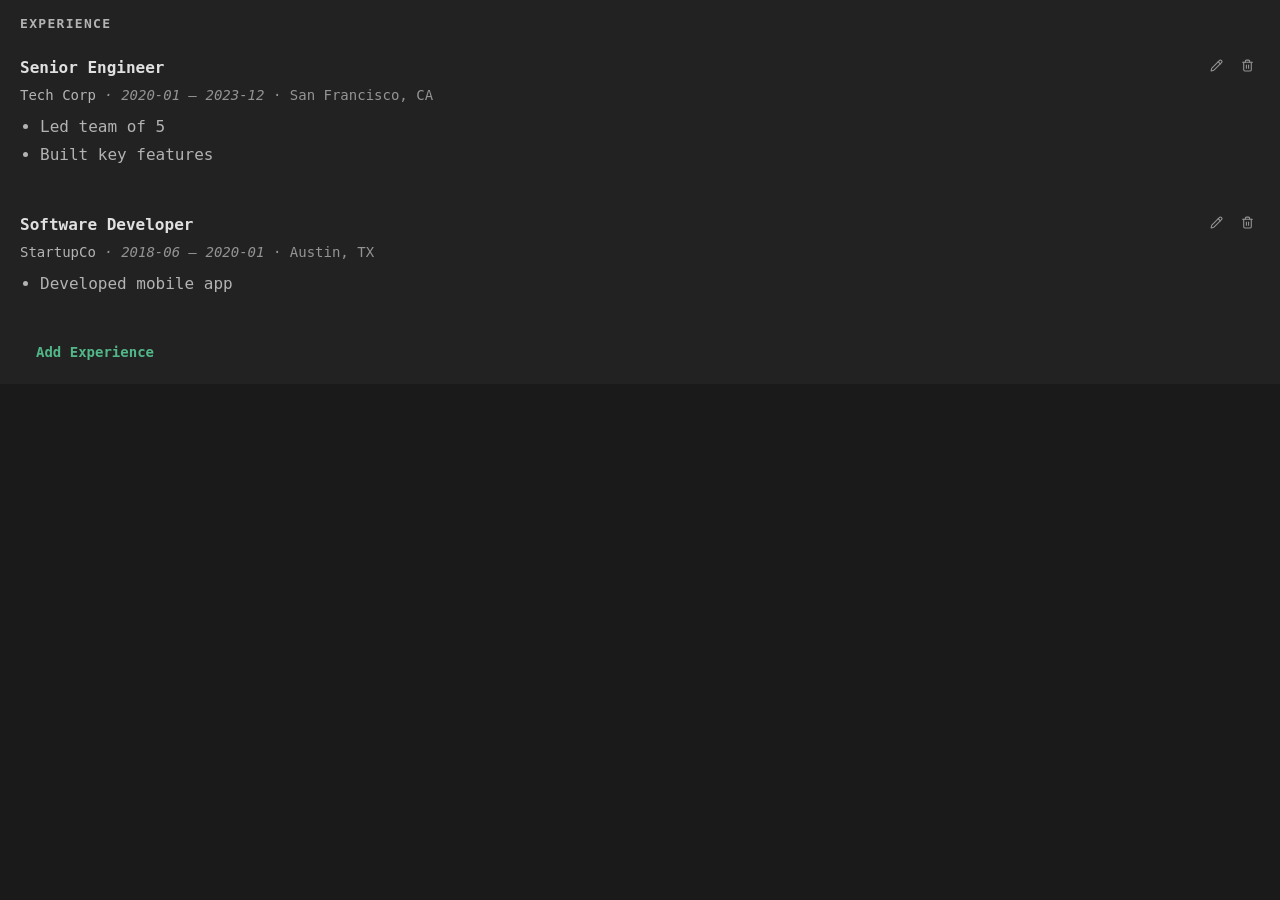
Test: ExperienceSection (edit/add/delete) › delete mode › shows confirmation dialog when delete button clicked
Click the button named "delete" in the row of "Senior Engineer" at {"x": 1248, "y": 65}, box [1235,55,1260,76]
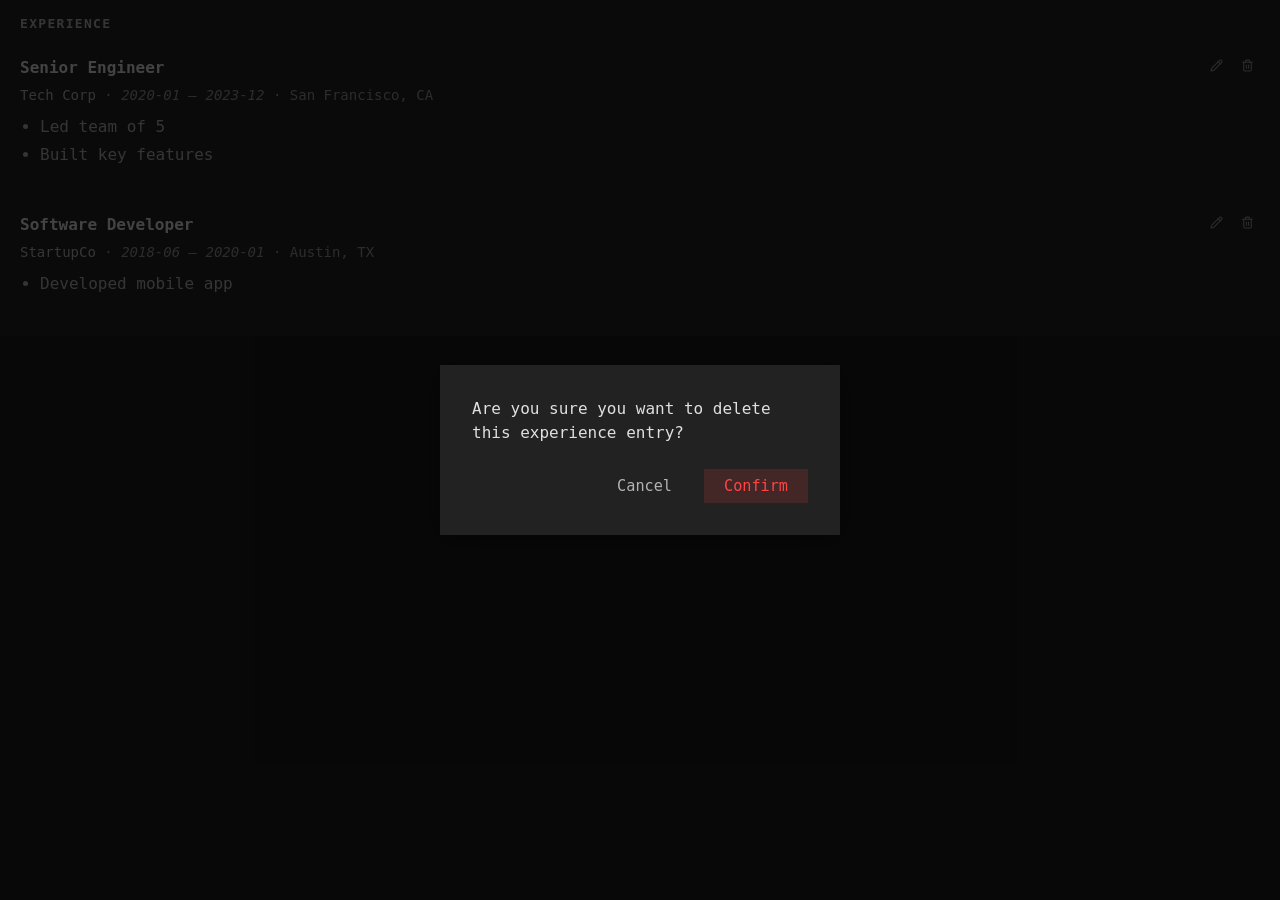
expect the text "Are you sure you want to delete this experience entry?" is shown: met, box [472,397,808,445]
expect the button "Confirm" is shown: met, box [704,469,808,503]
expect the button "Cancel" is shown: met, box [597,469,692,503]
